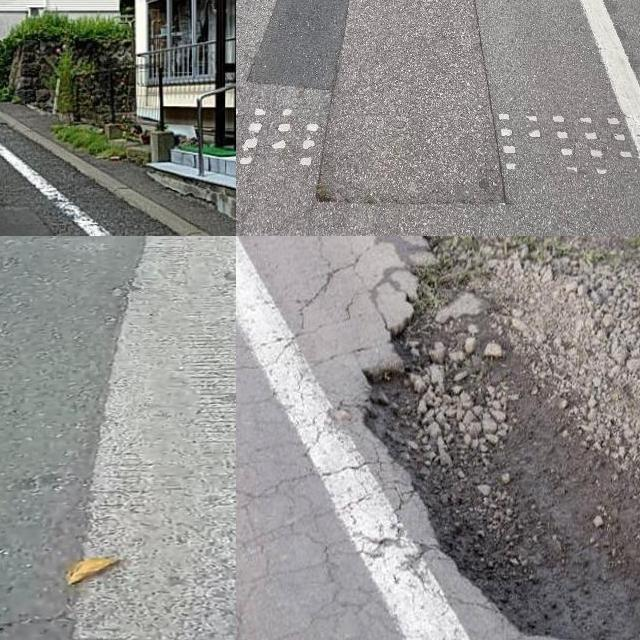Pinggir: (363, 236, 640, 640)
Sambungan: (59, 236, 236, 640), (246, 0, 506, 198)
